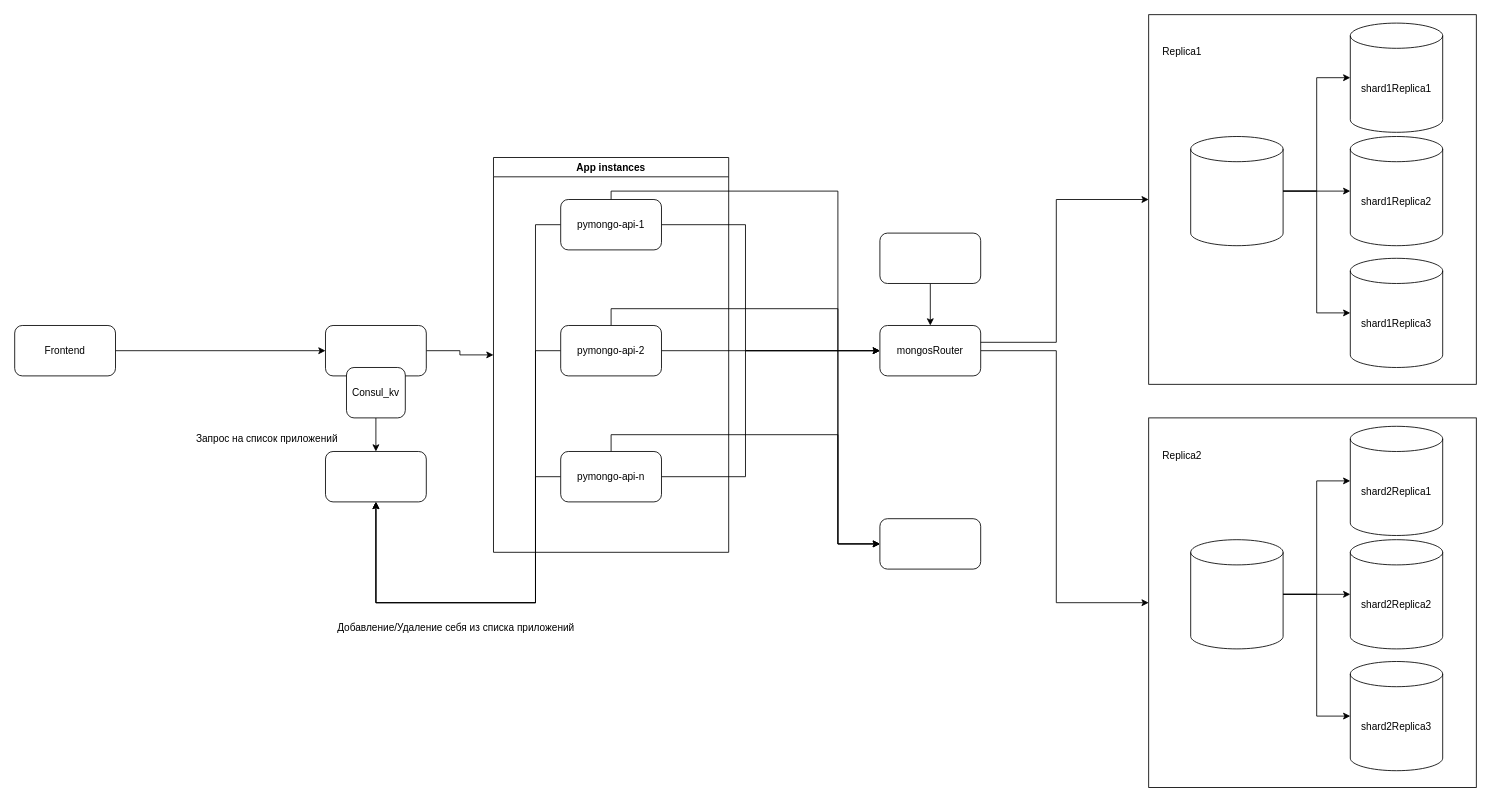
Some shapes in this 1491 by 802 pixel diagram are drawn without their labels. The shapes that lost their labels are listed below. From the top down, each one's box as (x1, y1, x2, y2) in pixels, then its label:
(1190, 136, 1283, 246): shard1
(879, 232, 981, 284): configSrv
(325, 325, 426, 376): APISIX Gateway
(325, 451, 426, 502): Consul
(879, 518, 981, 569): redis
(1190, 539, 1283, 649): shard2
